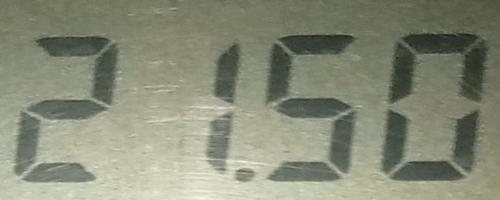.: (233, 167, 259, 187)
